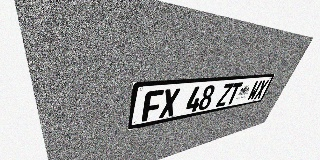4: (184, 86, 205, 113)
8: (197, 85, 217, 111)
F: (141, 90, 164, 122)
T: (225, 82, 243, 105)
W: (246, 80, 263, 101)
X: (159, 88, 181, 118), (253, 80, 269, 100)
Z: (215, 83, 234, 107)
